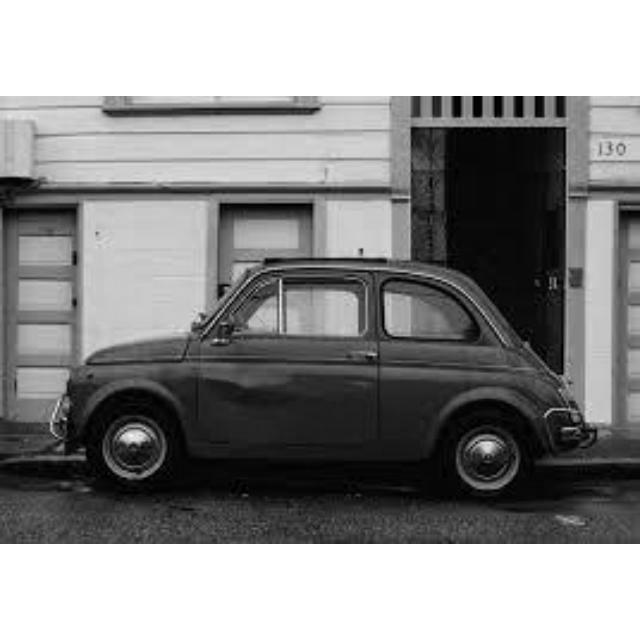doorouter-dent: (197, 338, 368, 447)
